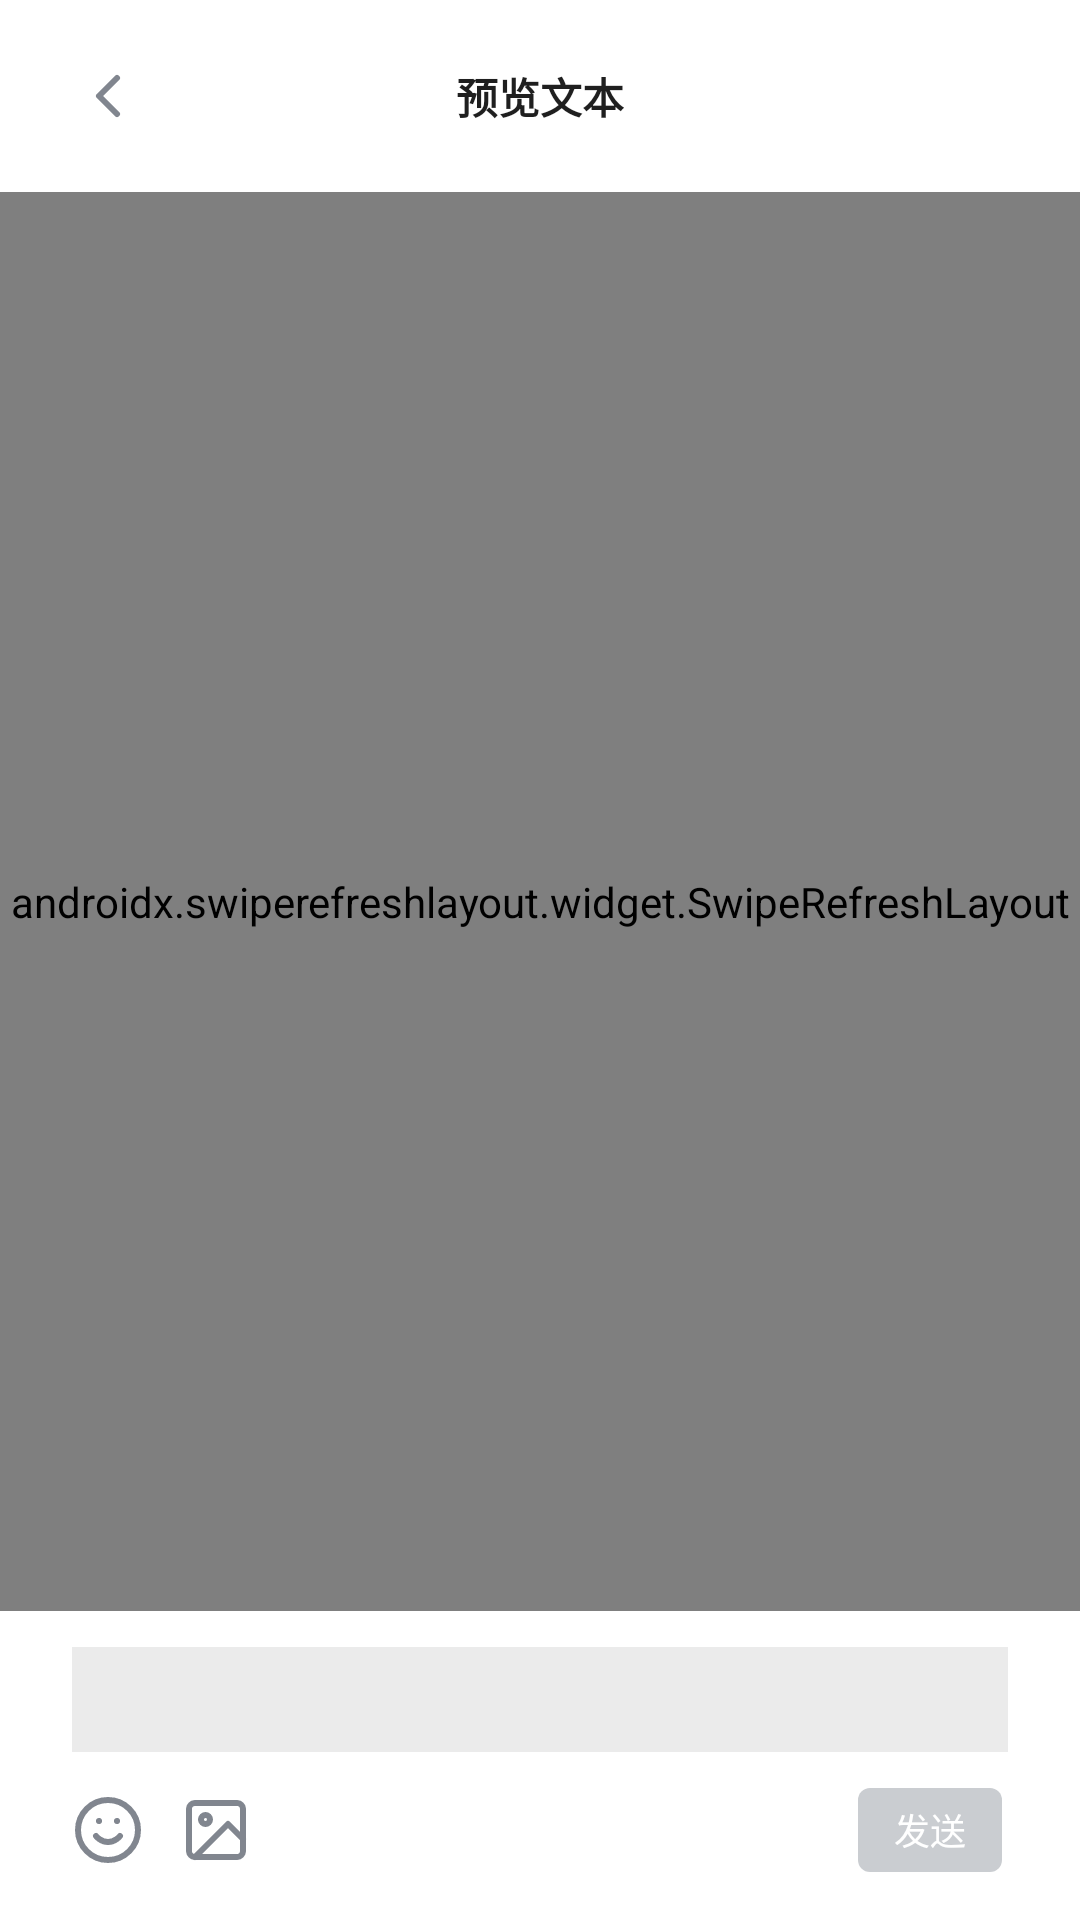

Where icons sit on this 1080px x 1920px app screen, as {"left": x1, "top": y1, "right": x2, "bottom": y2}:
chevron left: {"left": 96, "top": 75, "right": 120, "bottom": 117}
emoji: {"left": 75, "top": 1797, "right": 141, "bottom": 1863}
